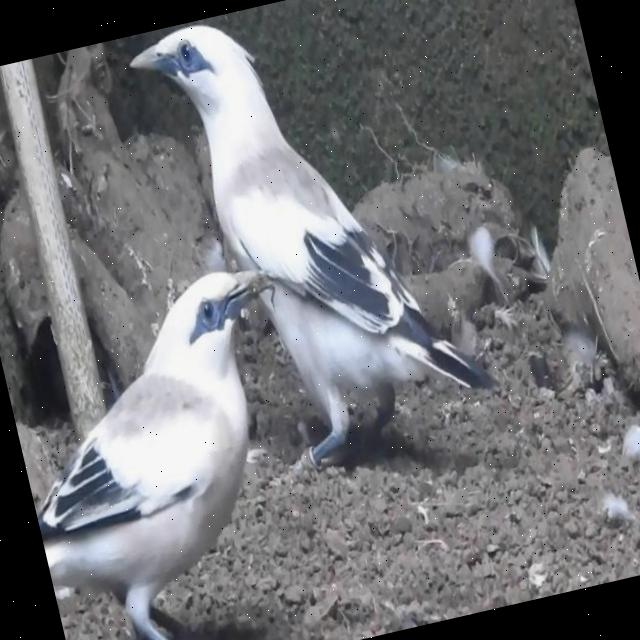Jalak Bali: (115, 0, 510, 515), (0, 232, 360, 640)
